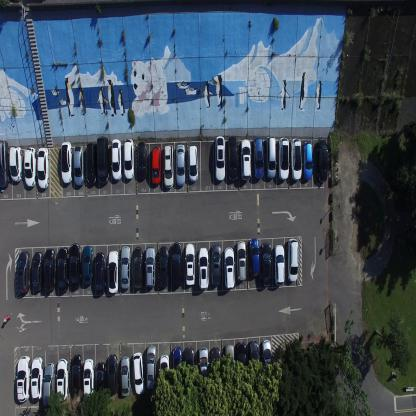car: (96, 136, 110, 184), (16, 355, 30, 403), (16, 250, 30, 295), (56, 247, 69, 293), (56, 358, 69, 404), (30, 356, 43, 402), (36, 147, 50, 189), (70, 242, 82, 291), (43, 361, 56, 406), (277, 137, 290, 181), (60, 140, 73, 184), (43, 248, 56, 292), (132, 350, 145, 394), (210, 242, 222, 288), (162, 144, 174, 189), (286, 237, 298, 282), (94, 251, 106, 296), (239, 139, 252, 180), (260, 242, 272, 286), (132, 246, 144, 290), (215, 135, 226, 182), (235, 342, 247, 385), (223, 246, 235, 289), (265, 135, 277, 178), (228, 134, 239, 180), (24, 146, 36, 188), (273, 244, 285, 286), (31, 250, 43, 292), (198, 347, 210, 389), (120, 245, 131, 290), (108, 249, 119, 294), (261, 339, 272, 384), (9, 145, 22, 183), (248, 237, 260, 278), (291, 137, 302, 181), (317, 138, 328, 182), (111, 138, 122, 182), (248, 340, 259, 384), (107, 352, 118, 396), (123, 137, 134, 180), (71, 353, 82, 396), (146, 344, 156, 391), (253, 136, 264, 178), (82, 244, 93, 286), (210, 346, 221, 388), (198, 246, 208, 292), (171, 242, 181, 288), (185, 241, 195, 286), (0, 139, 9, 189), (96, 360, 106, 405), (302, 140, 313, 180), (73, 146, 84, 186), (224, 344, 235, 384), (172, 346, 182, 390), (120, 354, 130, 398), (83, 357, 93, 401), (175, 143, 185, 186), (86, 142, 96, 185), (145, 245, 155, 288), (184, 346, 194, 389), (150, 144, 160, 186), (158, 246, 168, 288), (187, 144, 198, 182), (236, 240, 246, 281), (159, 355, 169, 396), (137, 141, 147, 180)
